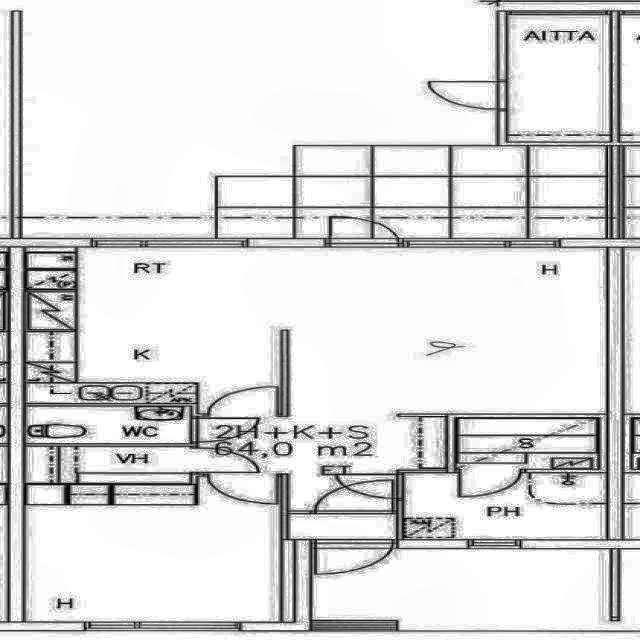room: (26, 446, 281, 622), (295, 549, 608, 620), (405, 473, 605, 539), (509, 15, 608, 141), (291, 475, 395, 510)
